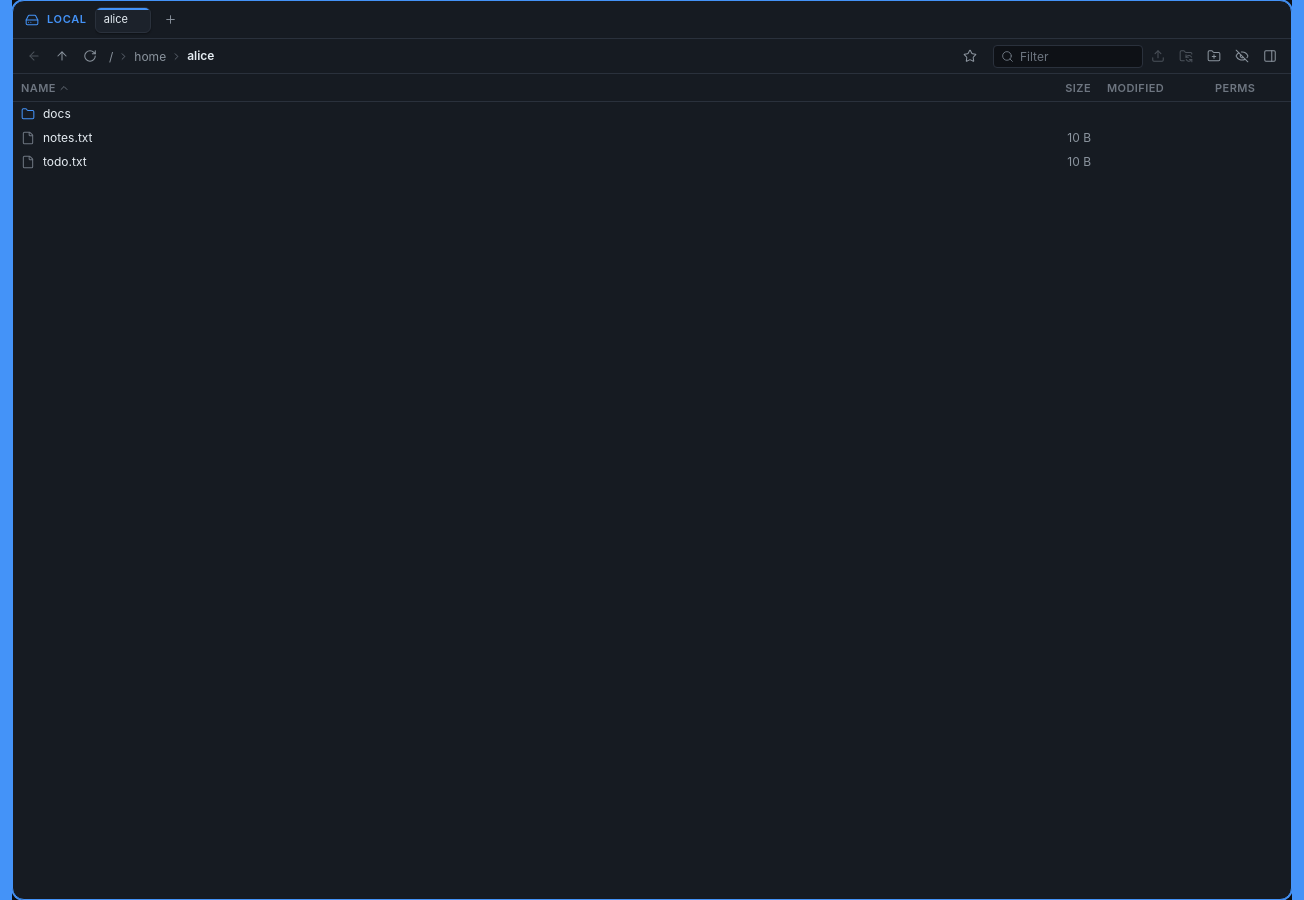
Pane › transfers › disables the transfer actions without a session
This screenshot has width=1304, height=900.
Step 1. Click the text "notes.txt" → [68, 138], box [43,129,92,147]
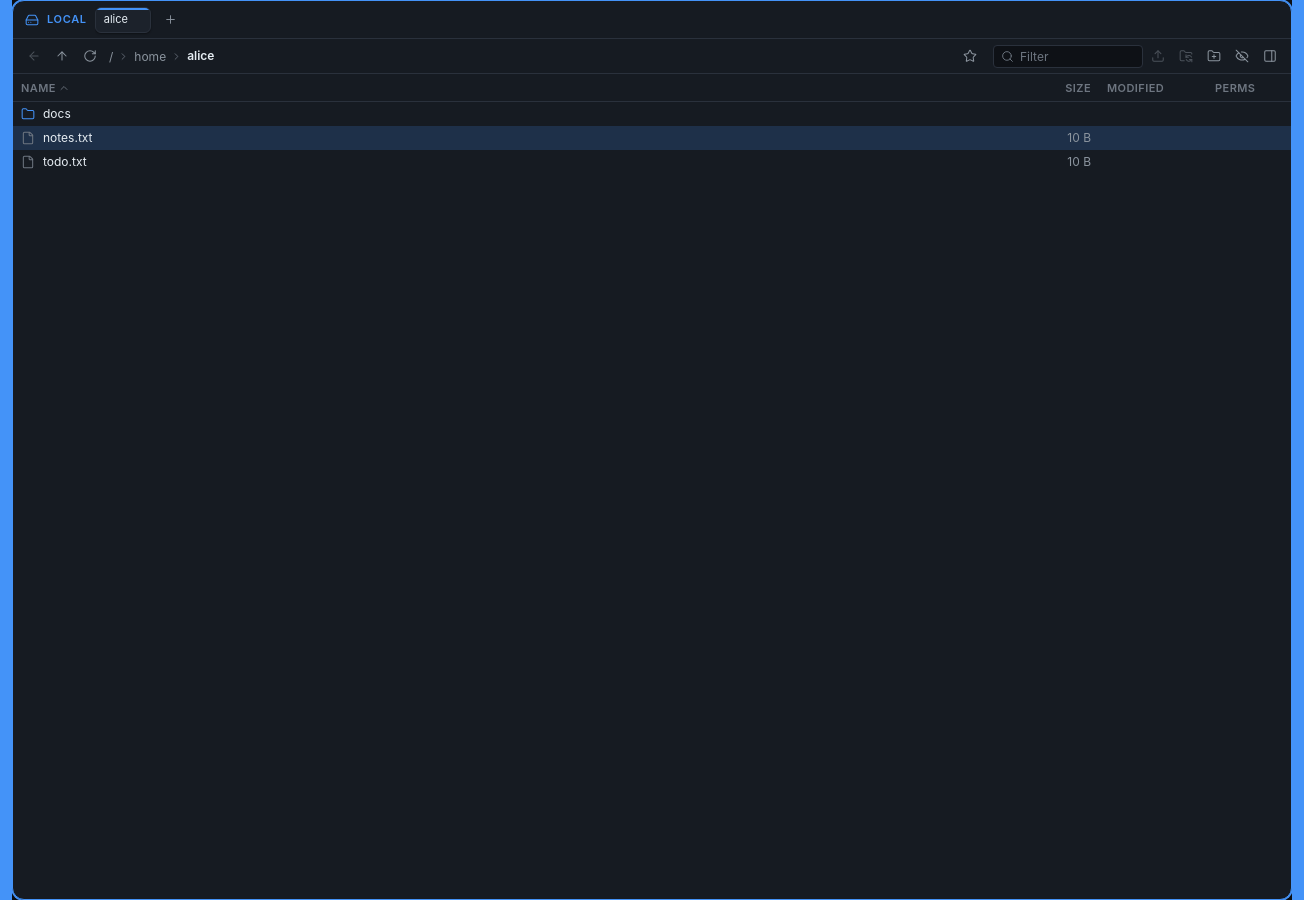
Expected: the button named "Upload" is disabled, [1145,43,1171,69]
Step 2. Right-click the text "notes.txt" → [68, 138], box [43,129,92,147]
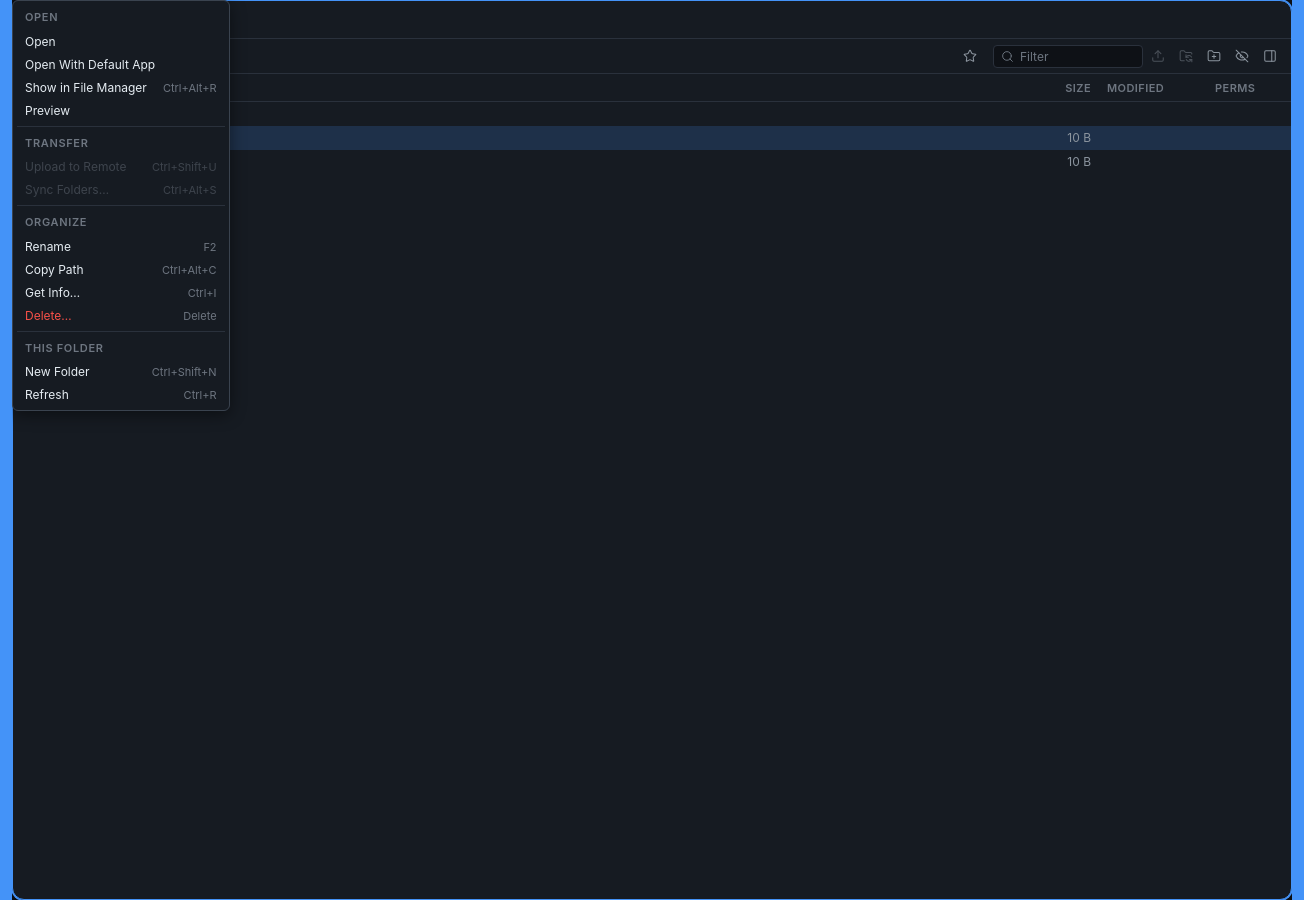
Expected: the button named "Sync folders" is disabled, [1173,43,1199,69]
Now the menu item "Upload to Remote Ctrl+Shift+U" is disabled, box [17,155,225,178]
Now the menu item "Sync Folders… Ctrl+Alt+S" is disabled, box [17,178,225,201]
